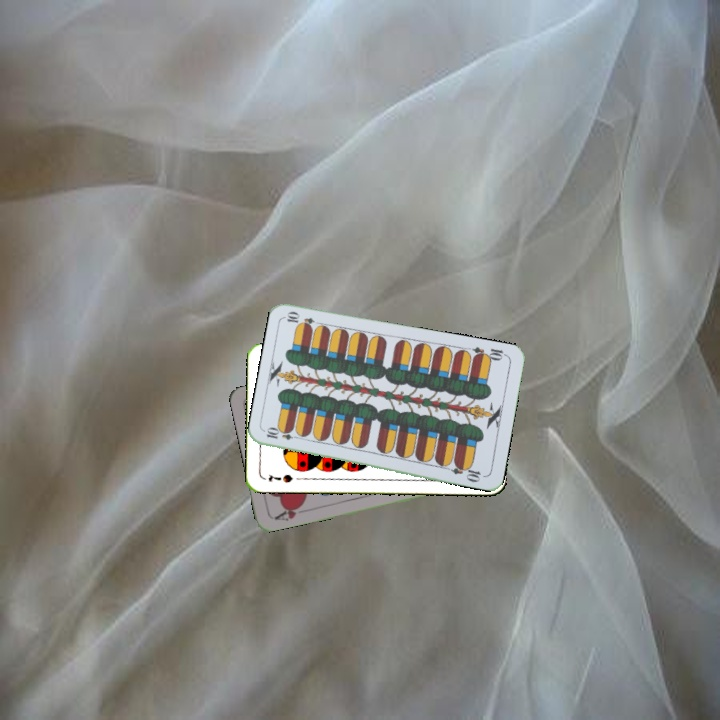E10: (469, 343, 509, 364), (262, 426, 303, 443)
HA: (270, 500, 310, 524)
S7: (264, 470, 295, 485)
